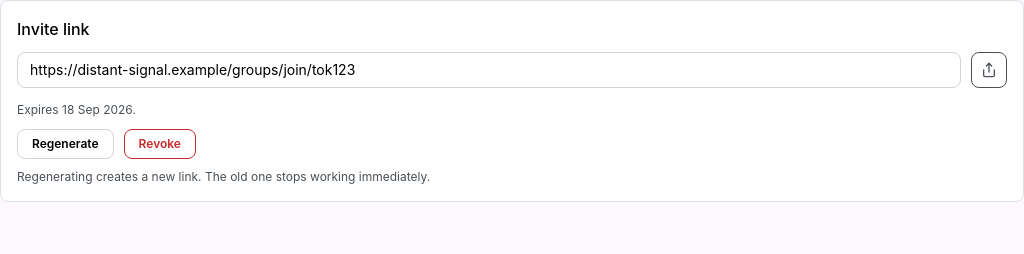
Scenario: GroupInviteLinkCard › a 401 on Revoke shows a login prompt, not the generic error
Click the button "Revoke" at (160, 144), box left=124, top=129, right=196, bottom=159
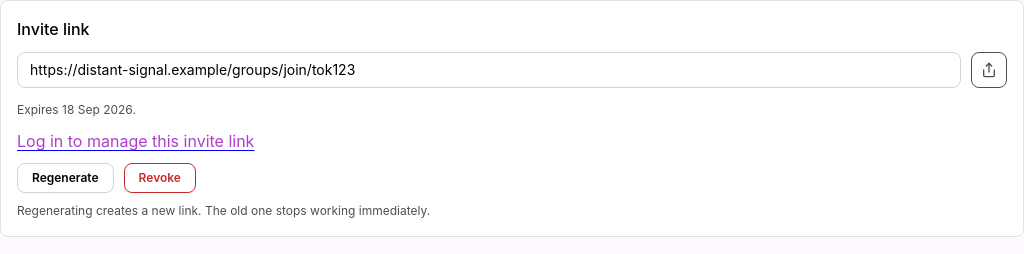
Expected: the link "Log in to manage this invite link" is shown, left=17, top=131, right=254, bottom=151
